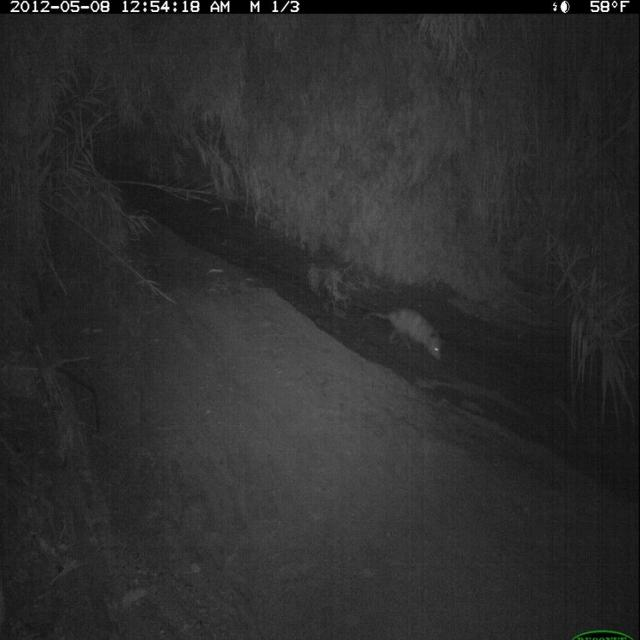opossum: (364, 302, 449, 366)
